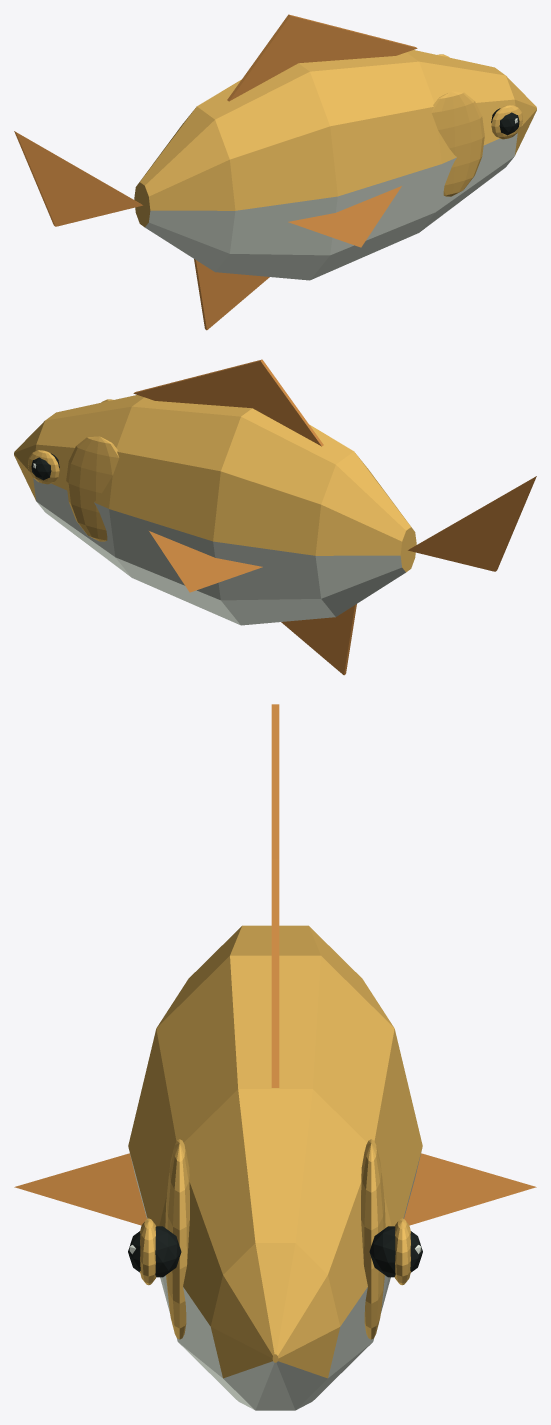
Rendered from oldgold.glb.
The picture shows the model from 3 angles, top to bottom: view 1: azimuth 30°, elevation 25°; view 2: azimuth 150°, elevation 25°; view 3: azimuth 270°, elevation 25°; orthographic projection. The views are drawn at different scales.
Visible parts, largest first — view 1: oldgold_Body, Dorsal.004, TailFin.004, Gill_plate.008, Pectoral.008, Anal_fin.004, Iris_rim.008; view 2: oldgold_Body, Dorsal.004, TailFin.004, Gill_plate.009, Pectoral.009, Anal_fin.004, Iris_rim.009; view 3: oldgold_Body, Pectoral.008, Pectoral.009, Gill_plate.009, Gill_plate.008, Dorsal.004, Eye.008, Eye.009, TailFin.004, Iris_rim.008, Iris_rim.009.
Boxes of the visible parts, x1,y1,x2,y2 form: oldgold_Body: [134, 50, 536, 280]; Dorsal.004: [227, 14, 417, 101]; TailFin.004: [14, 131, 142, 226]; Gill_plate.008: [432, 91, 484, 196]; Pectoral.008: [288, 186, 401, 247]; Anal_fin.004: [194, 259, 269, 330]; Iris_rim.008: [491, 105, 522, 139]; oldgold_Body: [14, 395, 416, 625]; Dorsal.004: [133, 359, 323, 446]; TailFin.004: [408, 476, 536, 571]; Gill_plate.009: [66, 436, 118, 541]; Pectoral.009: [149, 531, 262, 592]; Anal_fin.004: [281, 604, 356, 675]; Iris_rim.009: [28, 450, 59, 484]; oldgold_Body: [128, 925, 422, 1410]; Pectoral.008: [14, 1153, 146, 1225]; Pectoral.009: [404, 1153, 536, 1225]; Gill_plate.009: [361, 1139, 385, 1339]; Gill_plate.008: [165, 1139, 189, 1339]; Dorsal.004: [271, 858, 279, 1087]; Eye.008: [128, 1226, 181, 1277]; Eye.009: [369, 1226, 422, 1277]; TailFin.004: [271, 704, 279, 858]; Iris_rim.008: [140, 1218, 156, 1285]; Iris_rim.009: [394, 1218, 410, 1285].
Size of the model in its own units: 2.38 by 1.29 by 1.14.
